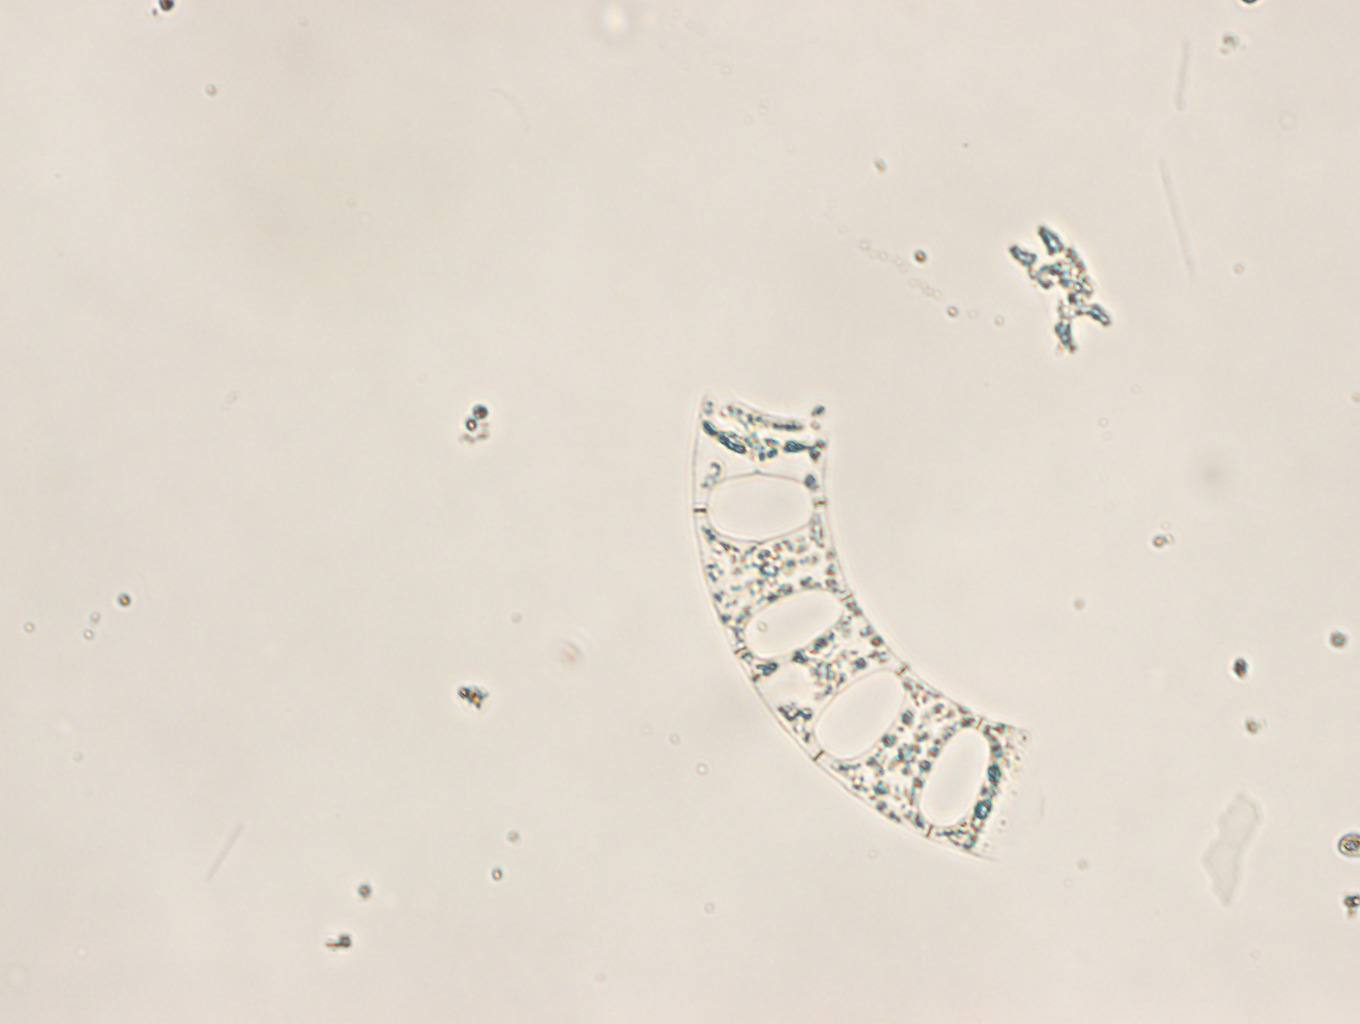eucampia: (690, 393, 1025, 861)
